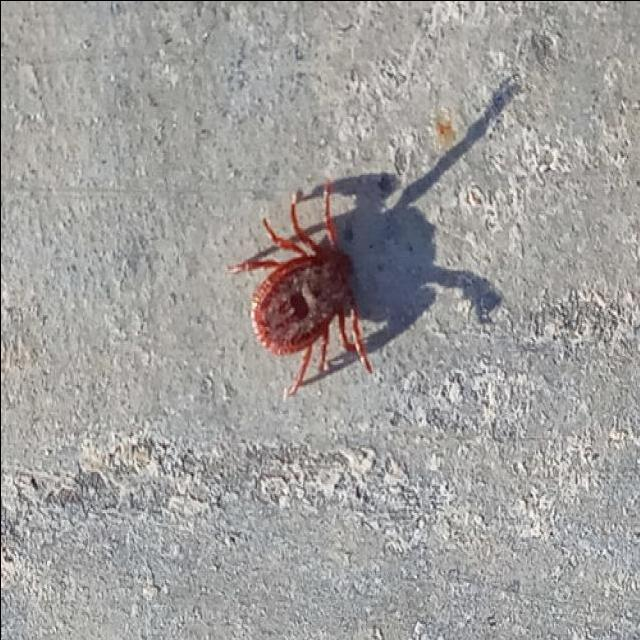Dermacentor Reticulatus-F: (230, 184, 372, 393)
